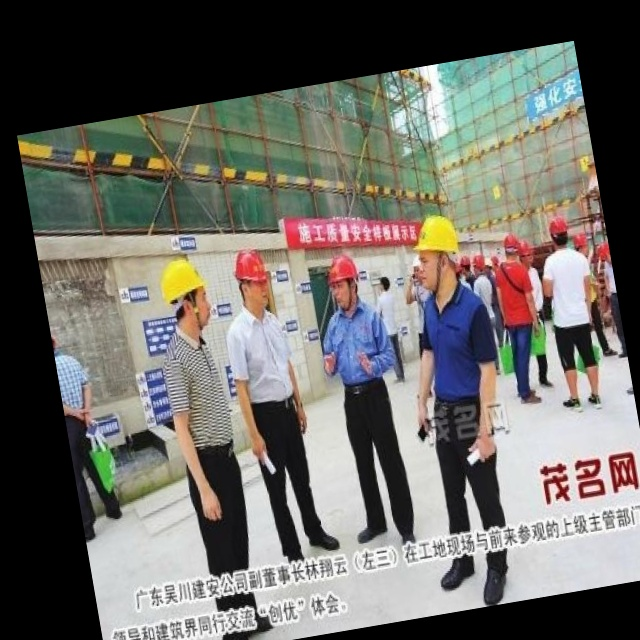Con_Casco: (159, 255, 212, 331), (231, 248, 272, 312), (325, 253, 365, 307)
